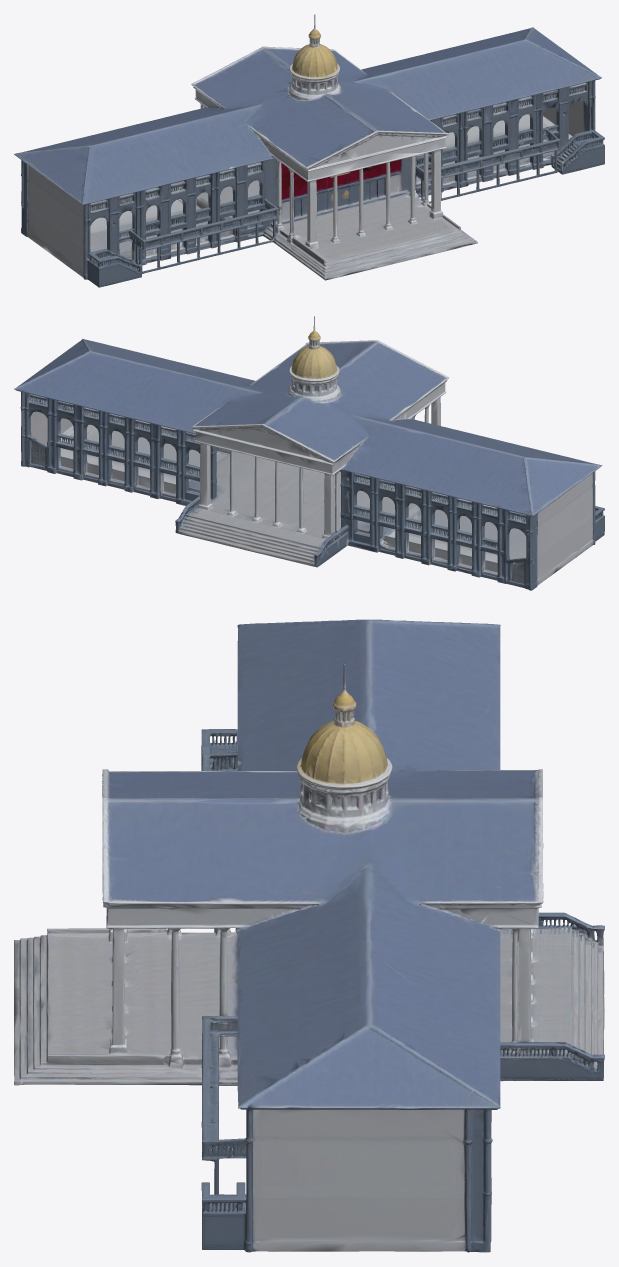
The model's file is toa_a.glb.
3 views of the same model, one above another, from view 1: azimuth 30°, elevation 25°; view 2: azimuth 150°, elevation 25°; view 3: azimuth 270°, elevation 25° (orthographic). The views are drawn at different scales.
Size of the model in its own units: 1.9 by 0.6451 by 0.9826.
Materials: 1 (1 with a texture image).
